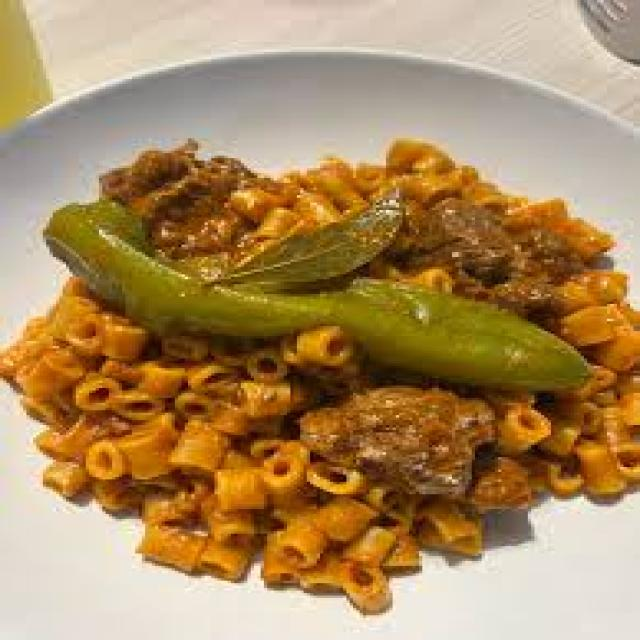Pasta: (27, 100, 640, 603)
